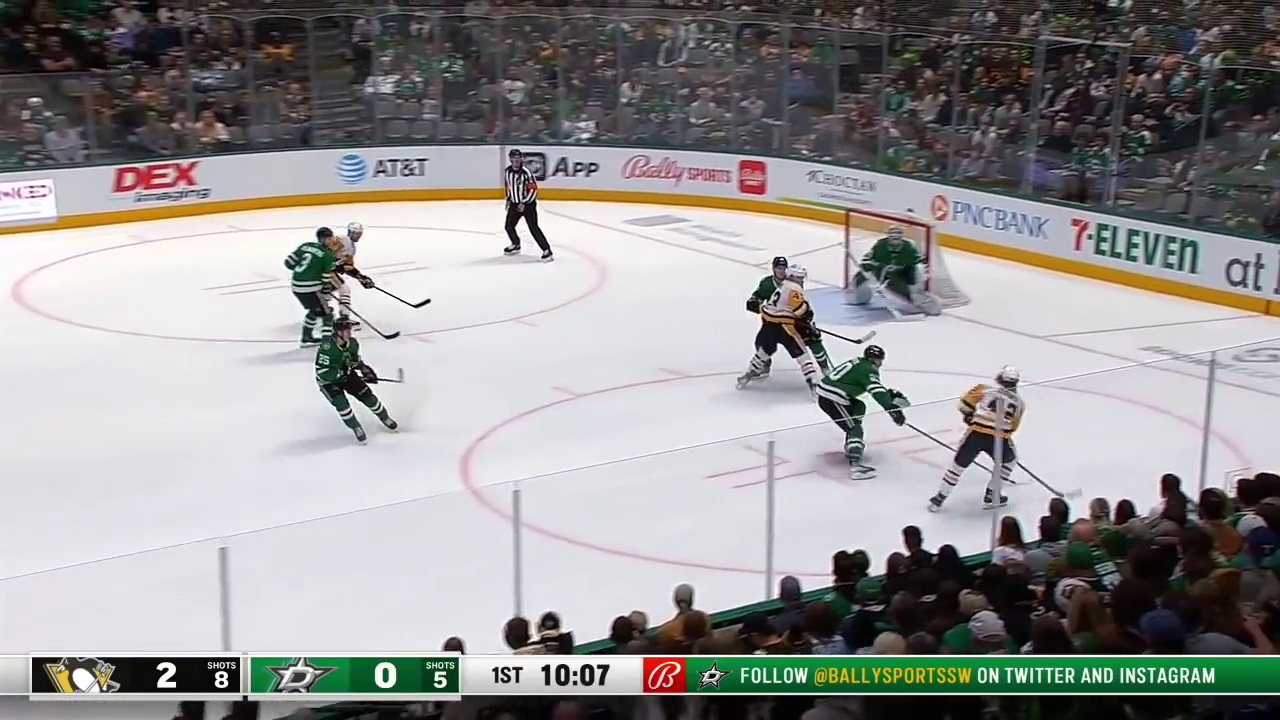goalie: (845, 225, 942, 316)
hockeyplayer: (928, 364, 1026, 512), (816, 345, 910, 480), (737, 264, 819, 404), (315, 318, 398, 445), (746, 256, 831, 378), (284, 227, 333, 348), (325, 222, 375, 331)
referee: (503, 149, 554, 263)
